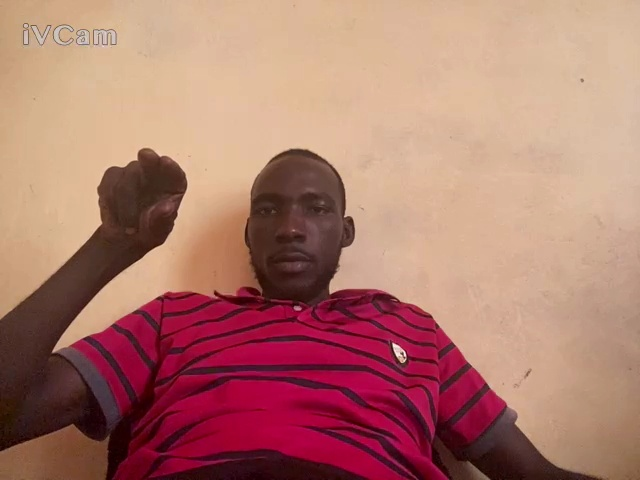non: (94, 145, 190, 259)
